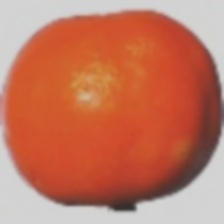tangerine: (45, 31, 191, 224)
